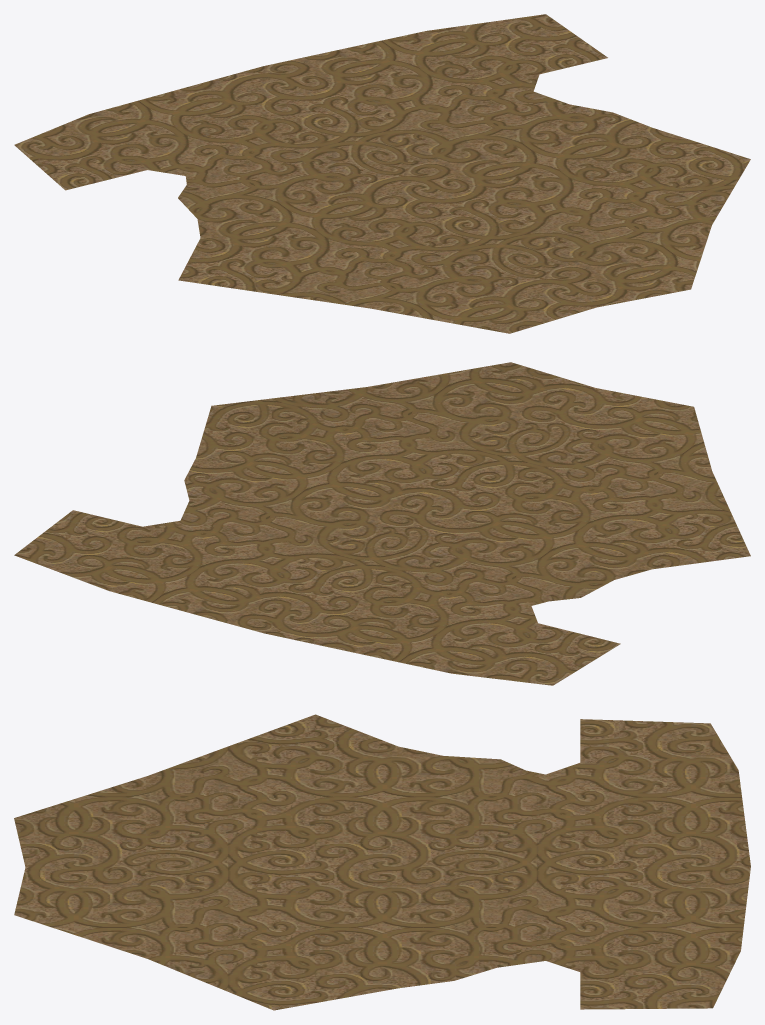
File: EKH_THRONE_PS_TH_DOOR_FLOOR_01.fbx
3 views of the same model, one above another, from view 1: azimuth 30°, elevation 25°; view 2: azimuth 150°, elevation 25°; view 3: azimuth 270°, elevation 25° (orthographic). The views are drawn at different scales.
Visible parts, largest first — view 1: EKH_THRONE_PS_TH_DOOR_FLOOR_01; view 2: EKH_THRONE_PS_TH_DOOR_FLOOR_01; view 3: EKH_THRONE_PS_TH_DOOR_FLOOR_01.
Boxes of the visible parts, <box> form: EKH_THRONE_PS_TH_DOOR_FLOOR_01: <box>14,14,750,333</box>; EKH_THRONE_PS_TH_DOOR_FLOOR_01: <box>14,362,750,685</box>; EKH_THRONE_PS_TH_DOOR_FLOOR_01: <box>14,714,750,1010</box>.
Bounding box in the file's own units: 68105 × 49.65 × 71637.
1 material, 1 textured.
